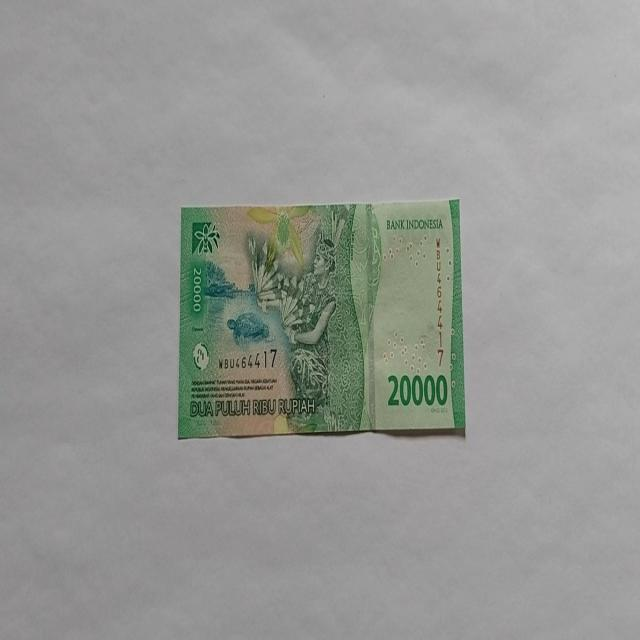dua puluh ribu rupiah: (177, 197, 466, 440)
